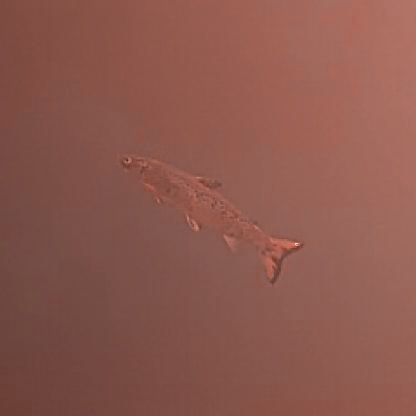salmon: (109, 146, 305, 284)
